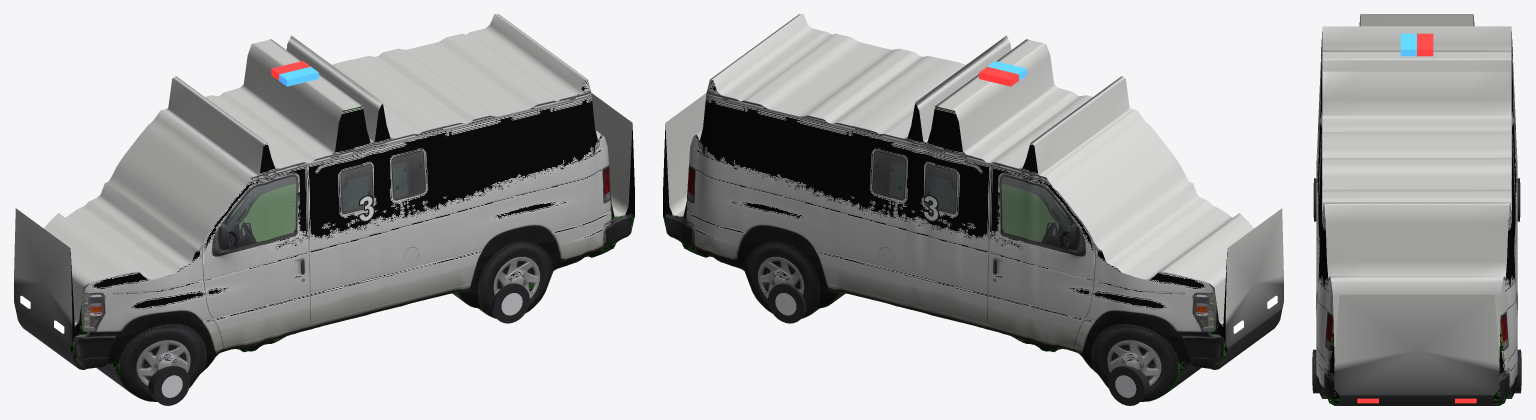
File: ambulance.glb
The picture shows the model from 3 angles, left to right: view 1: azimuth 30°, elevation 25°; view 2: azimuth 150°, elevation 25°; view 3: azimuth 270°, elevation 25°; orthographic projection. The views are drawn at different scales.
Parts seen in each view (by area): view 1: ambulance; view 2: ambulance; view 3: ambulance.
Part boxes in pixels (x1,y1,x2,y2): ambulance: [14, 14, 634, 405]; ambulance: [663, 14, 1283, 405]; ambulance: [1312, 14, 1521, 405].
Size of the model in its own units: 4.88 by 2.15 by 1.54.
Materials: 10 (2 with a texture image).
